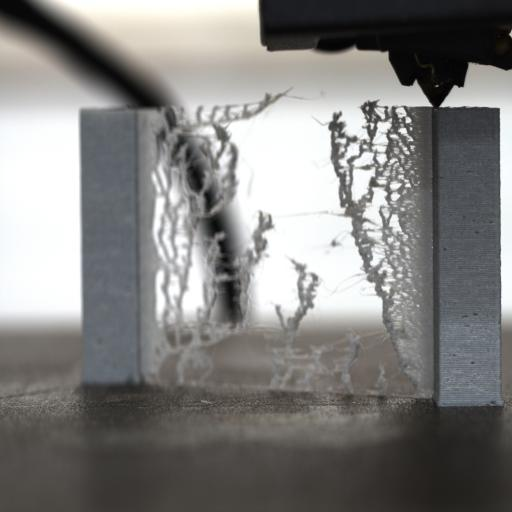stringing: (150, 100, 282, 379), (312, 100, 426, 392)
